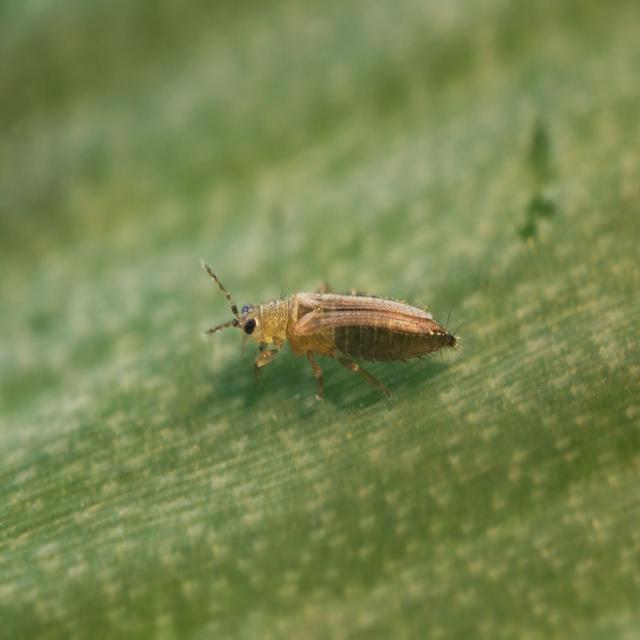Thrip-Adult-: (173, 246, 474, 402)
